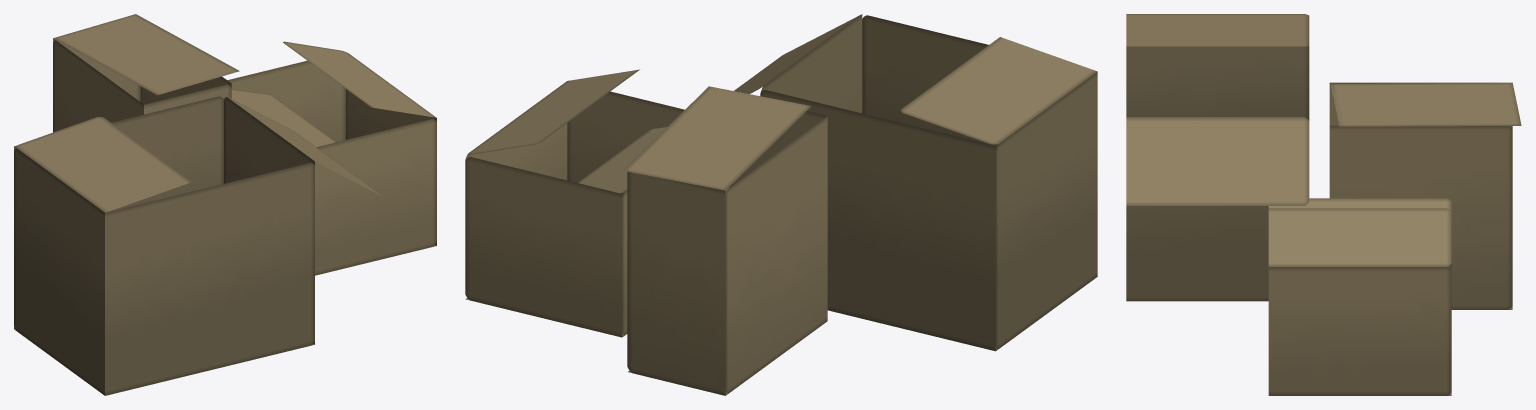
The model's file is cardboard_boxes1.obj.
3 renders of one model, left to right at view 1: azimuth 30°, elevation 25°; view 2: azimuth 150°, elevation 25°; view 3: azimuth 270°, elevation 25°, orthographic. The views are drawn at different scales.
Parts seen in each view (by area): view 1: baseModel2, baseModel0, baseModel9, baseModel6, baseModel19, baseModel1, baseModel15, baseModel8, baseModel3, baseModel12, baseModel13, baseModel10 (+4 smaller); view 2: baseModel1, baseModel8, baseModel15, baseModel0, baseModel14, baseModel6, baseModel19, baseModel2, baseModel9, baseModel3, baseModel12, baseModel10 (+4 smaller); view 3: baseModel10, baseModel17, baseModel5, baseModel3, baseModel0, baseModel12, baseModel19, baseModel6, baseModel13, baseModel15.
Boxes of the visible parts, box(x1,y1,x2,y2) form: baseModel2: box(105, 162, 314, 395); baseModel0: box(14, 148, 104, 395); baseModel9: box(315, 119, 436, 275); baseModel6: box(16, 117, 191, 212); baseModel19: box(53, 14, 239, 95); baseModel1: box(14, 96, 223, 329); baseModel15: box(53, 40, 143, 132); baseModel8: box(227, 60, 345, 141); baseModel3: box(224, 97, 314, 344); baseModel12: box(283, 41, 435, 117); baseModel13: box(231, 89, 336, 147); baseModel10: box(346, 89, 436, 245); baseModel1: box(760, 90, 995, 351); baseModel8: box(465, 157, 622, 337); baseModel15: box(725, 116, 827, 393); baseModel0: box(995, 72, 1097, 349); baseModel14: box(627, 171, 725, 395); baseModel6: box(901, 37, 1097, 144); baseModel19: box(623, 86, 811, 190); baseModel2: box(862, 15, 998, 150); baseModel9: box(567, 91, 684, 197); baseModel3: box(760, 14, 862, 113); baseModel12: box(468, 69, 639, 154); baseModel10: box(465, 123, 567, 180); baseModel10: box(1268, 267, 1451, 395); baseModel17: box(1329, 125, 1512, 309); baseModel5: box(1126, 117, 1309, 205); baseModel3: box(1126, 206, 1268, 301); baseModel0: box(1126, 46, 1309, 120); baseModel12: box(1268, 208, 1451, 266); baseModel19: box(1330, 82, 1521, 126); baseModel6: box(1126, 14, 1309, 46); baseModel13: box(1268, 198, 1451, 211); baseModel15: box(1329, 82, 1512, 129).
Bounding box in the file's own units: 1.44 × 0.6577 × 1.21.
Materials: 1 (1 with a texture image).
